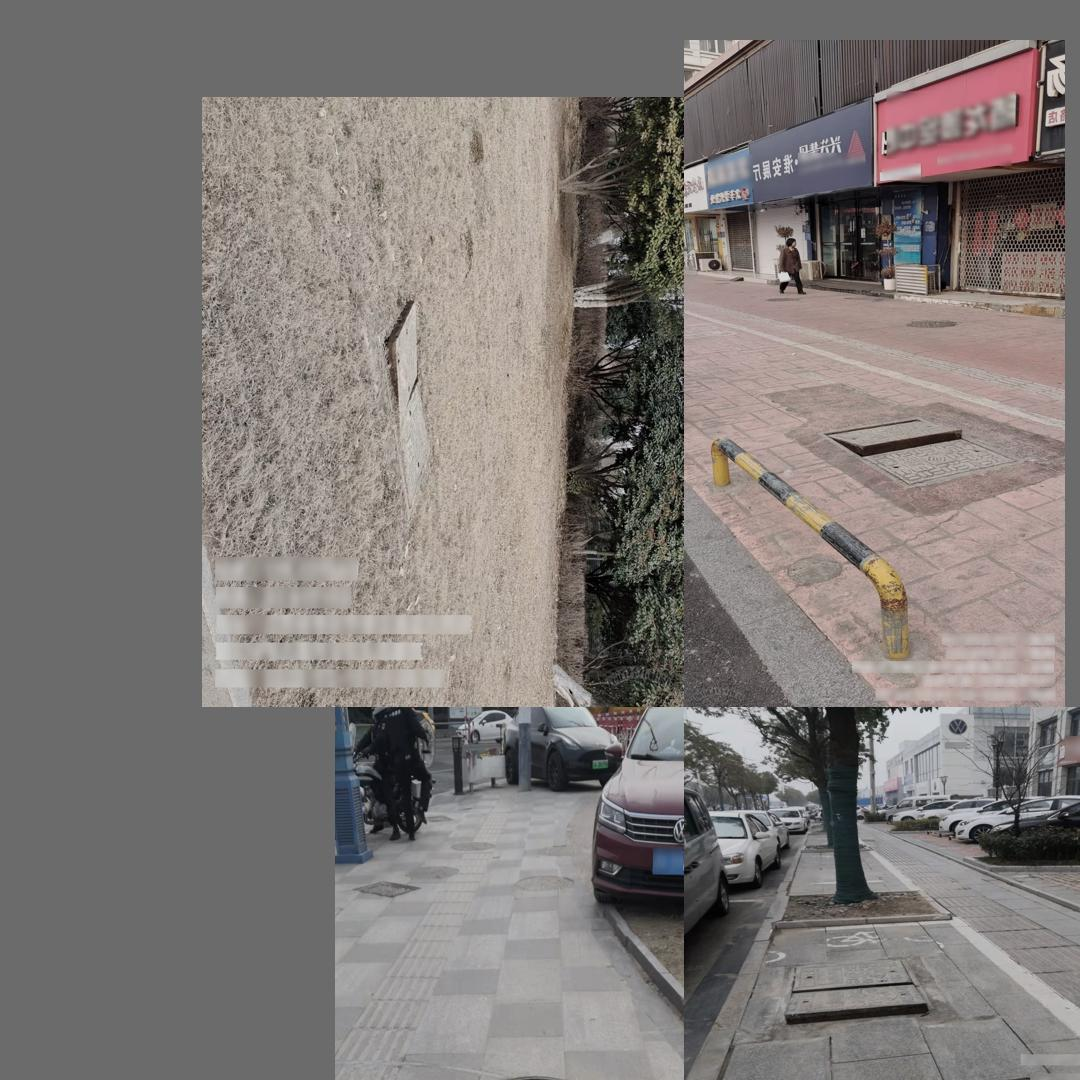uncovered: (821, 416, 1020, 491), (775, 944, 921, 1029), (383, 301, 434, 524), (462, 1076, 608, 1080)
